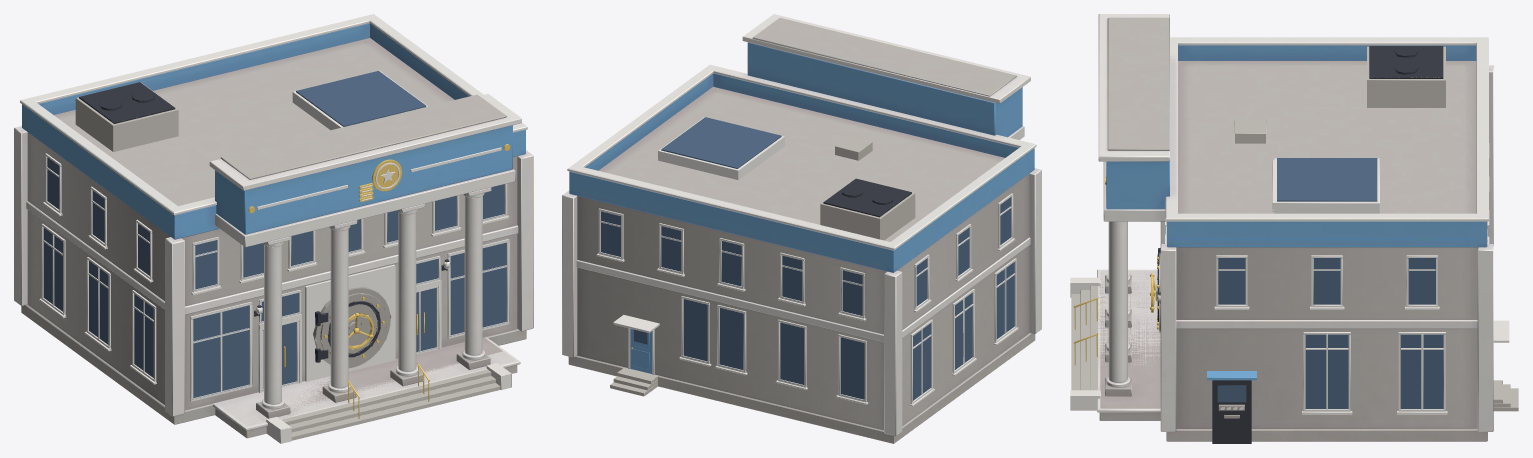
Rendered from bank-light.glb.
The picture shows the model from 3 angles, left to right: view 1: azimuth 30°, elevation 25°; view 2: azimuth 150°, elevation 25°; view 3: azimuth 270°, elevation 25°; orthographic projection. The views are drawn at different scales.
Visible parts, largest first — view 1: bank_body, bank_details, bank_coin_emblem; view 2: bank_body, bank_details; view 3: bank_body, bank_details.
Boxes of the visible parts, x1,y1,x2,y2 form: bank_body: (14, 14, 533, 438); bank_details: (39, 70, 511, 443); bank_coin_emblem: (248, 144, 510, 213); bank_body: (562, 14, 1041, 443); bank_details: (596, 117, 1018, 406); bank_body: (1097, 14, 1493, 441); bank_details: (1070, 46, 1518, 443).
Bounding box in the file's own units: 16.9 × 11.2 × 16.97.
Materials: 10 (1 with a texture image).
